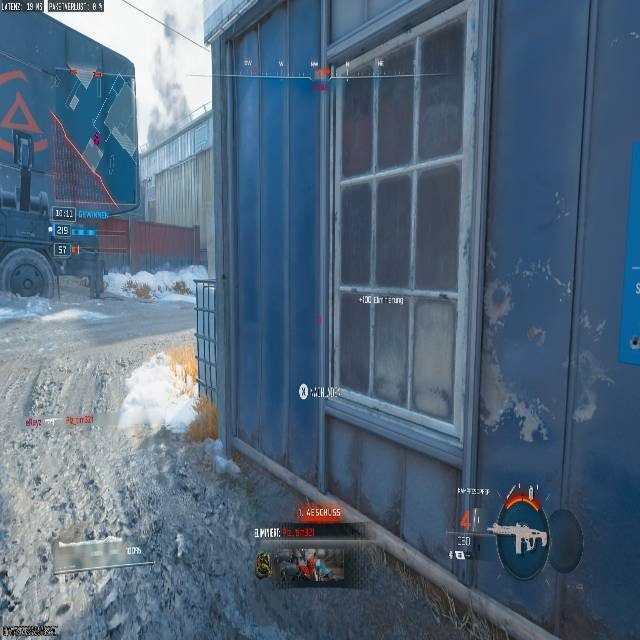player: (117, 351, 198, 452)
